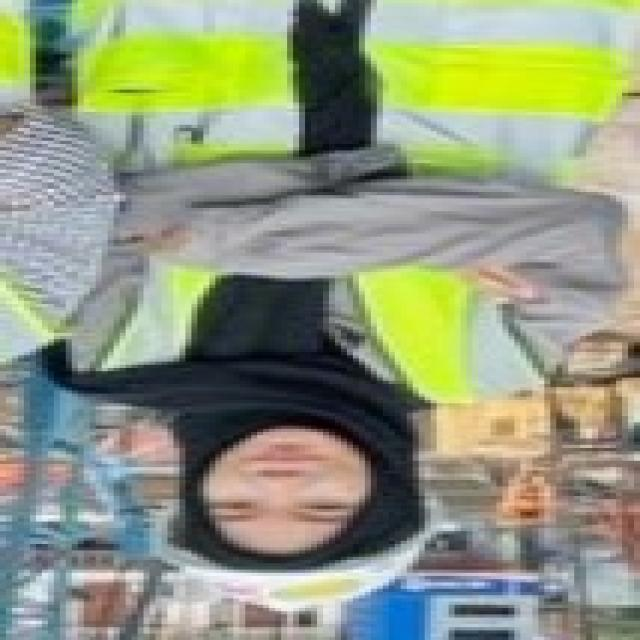safetyhelmet: (176, 451, 436, 613)
